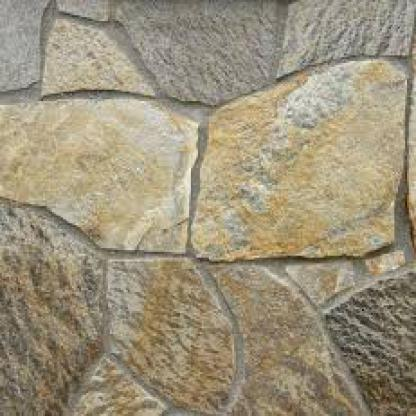Metamorphic_Quartize: (189, 63, 403, 269), (0, 84, 211, 267)
